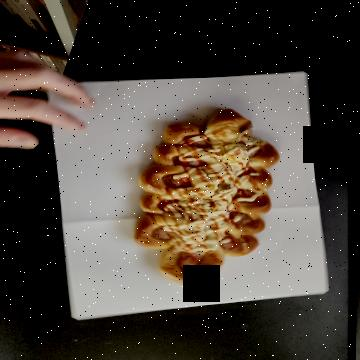pizza_bread: (101, 82, 278, 230)
